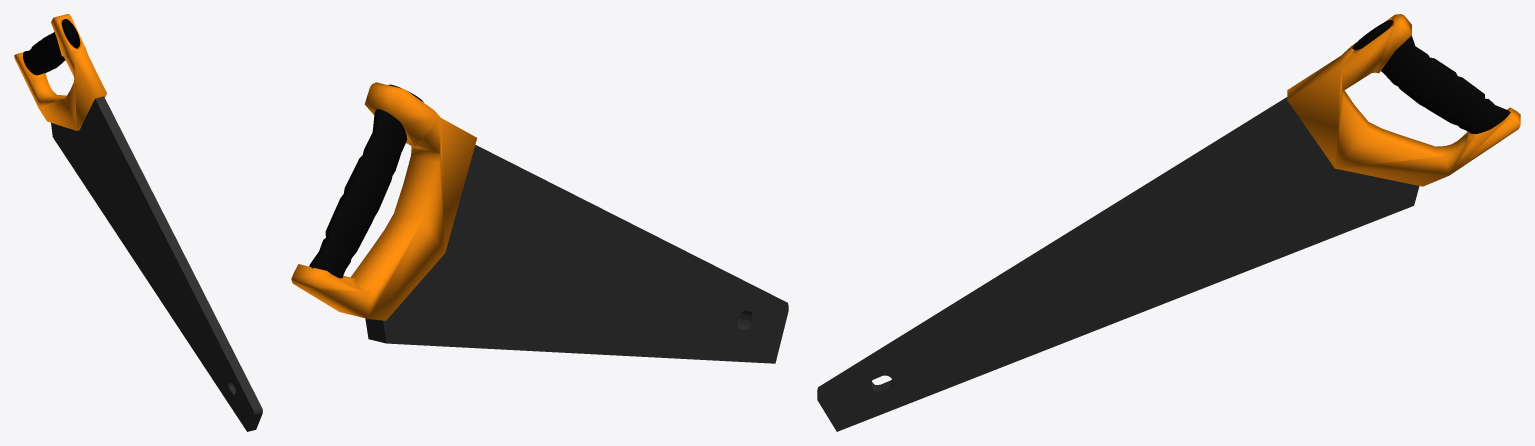
Rendered from hand saw.fbx.
The picture shows the model from 3 angles, left to right: view 1: azimuth 30°, elevation 25°; view 2: azimuth 150°, elevation 25°; view 3: azimuth 270°, elevation 25°; orthographic projection. The views are drawn at different scales.
Visible parts, largest first — view 1: Cube, Cube.001, Cylinder; view 2: Cube, Cube.001, Cylinder; view 3: Cube, Cube.001, Cylinder.
Part boxes in pixels (x1,y1,x2,y2): Cube: (51, 96, 262, 431); Cube.001: (14, 14, 106, 130); Cylinder: (23, 19, 80, 75); Cube: (365, 145, 788, 363); Cube.001: (291, 82, 476, 320); Cylinder: (309, 84, 423, 278); Cube: (817, 97, 1419, 431); Cube.001: (1287, 14, 1520, 186); Cylinder: (1352, 20, 1510, 133).
Bounding box in the file's own units: 17.57 × 322 × 501.
